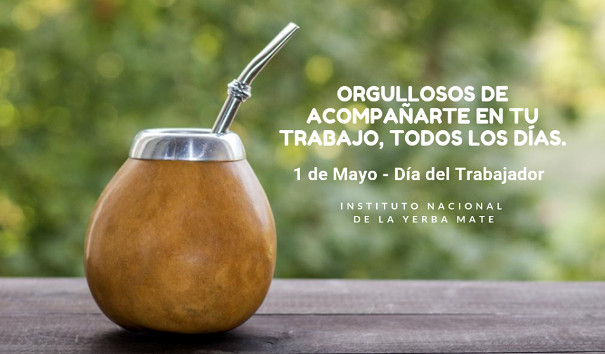guampa: (72, 10, 304, 342)
